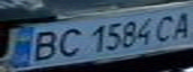1: (87, 20, 109, 54)
4: (133, 16, 160, 47)
5: (106, 19, 127, 52)
8: (121, 17, 142, 50)
A: (166, 8, 193, 41)
B: (21, 27, 66, 63)
C: (51, 26, 84, 60), (151, 11, 181, 43)
